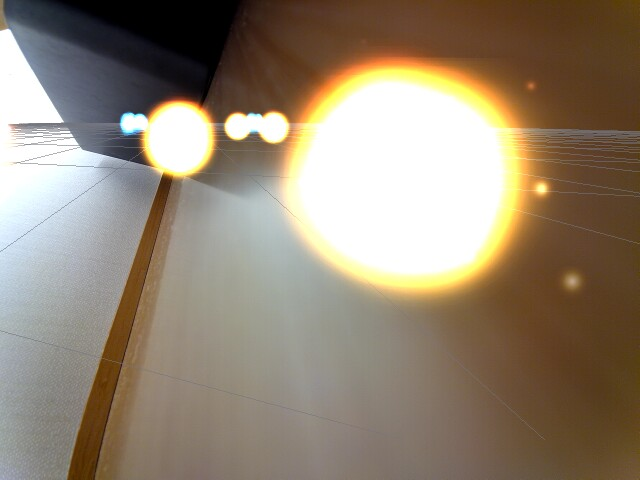firebig: (290, 63, 530, 301)
